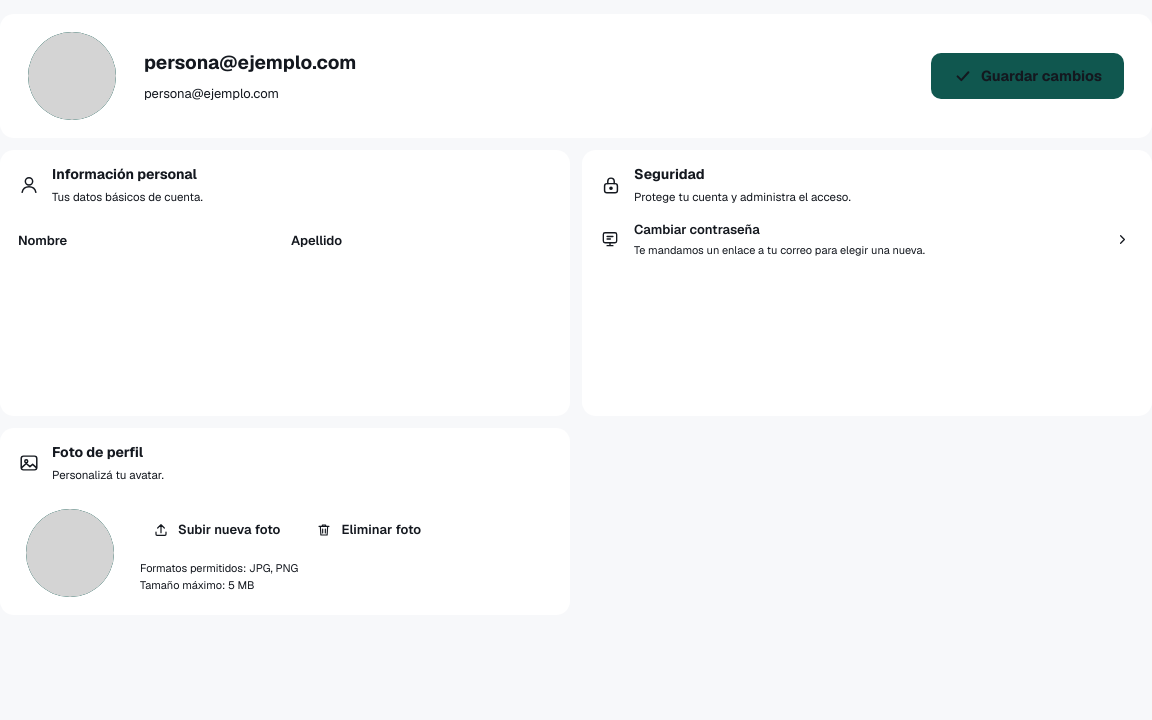
it: Mi perfil › si Eliminar foto falla sin respuesta, lo avisa y conserva la foto
Click the button "Eliminar foto" at point(369, 530), box [303,512,434,548]
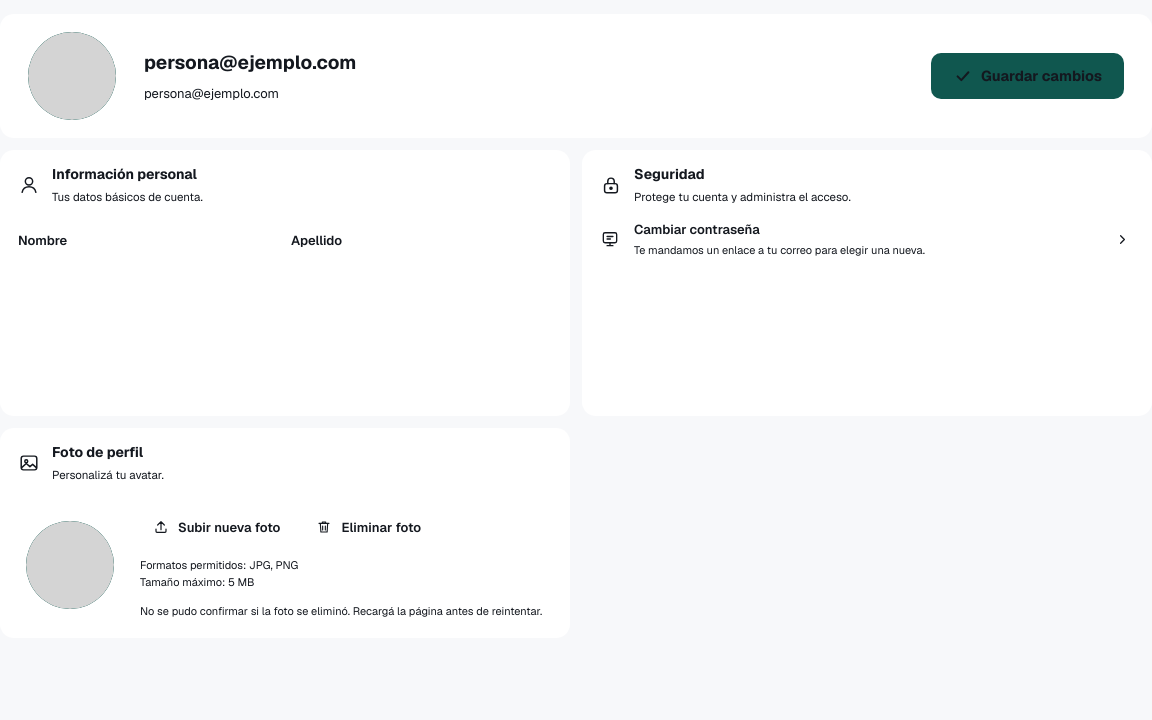
Check: the message shows "No se pudo confirmar si la foto se eliminó", box [140,604,542,618]
